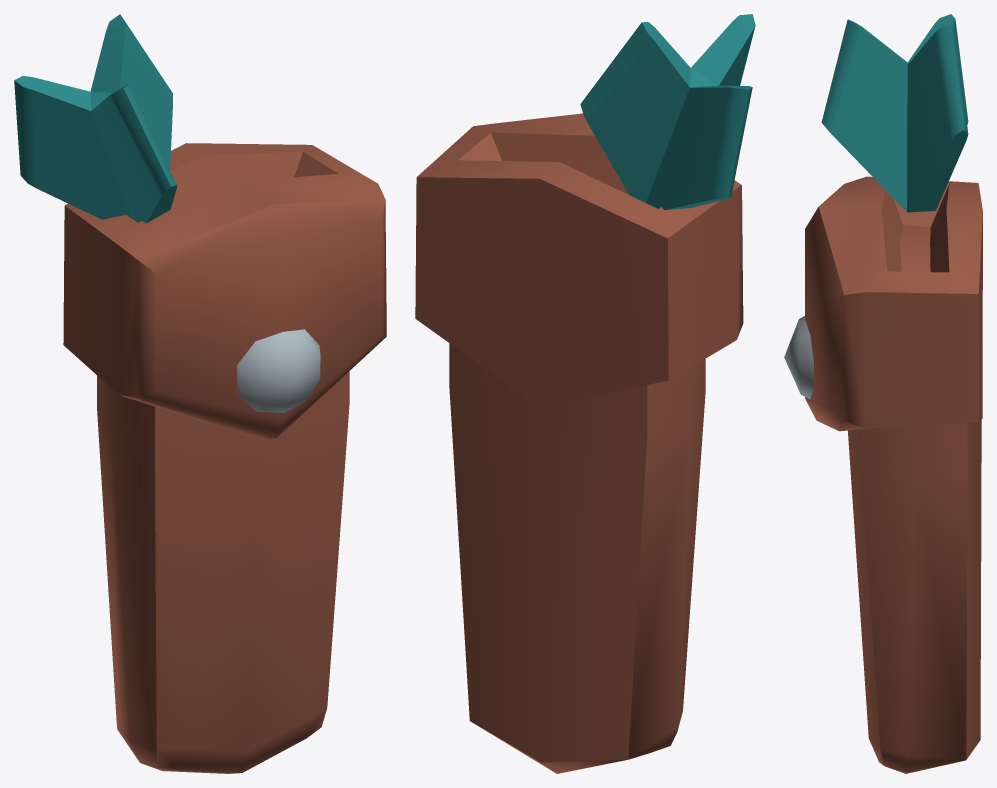
File: quiver_half_full.dae
3 views of the same model, side by side, from view 1: azimuth 30°, elevation 25°; view 2: azimuth 150°, elevation 25°; view 3: azimuth 270°, elevation 25° (orthographic). The views are drawn at different scales.
Visible parts, largest first — view 1: quiver_half_full; view 2: quiver_half_full; view 3: quiver_half_full.
Boxes of the visible parts, bbox=[...] form: quiver_half_full: bbox=[14, 14, 386, 773]; quiver_half_full: bbox=[415, 14, 755, 773]; quiver_half_full: bbox=[784, 14, 982, 773].
Bounding box in the file's own units: 0.3037 × 0.178 × 0.6914.
